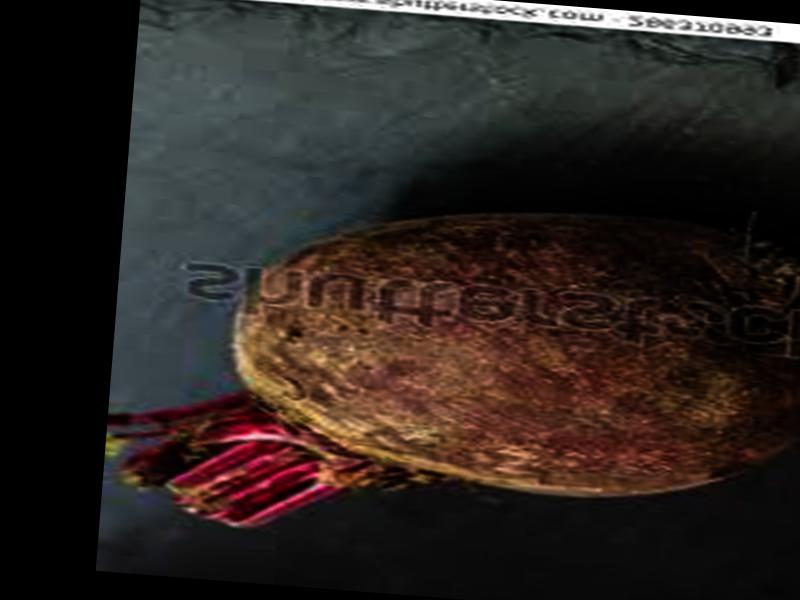Beet: (105, 176, 800, 568)
